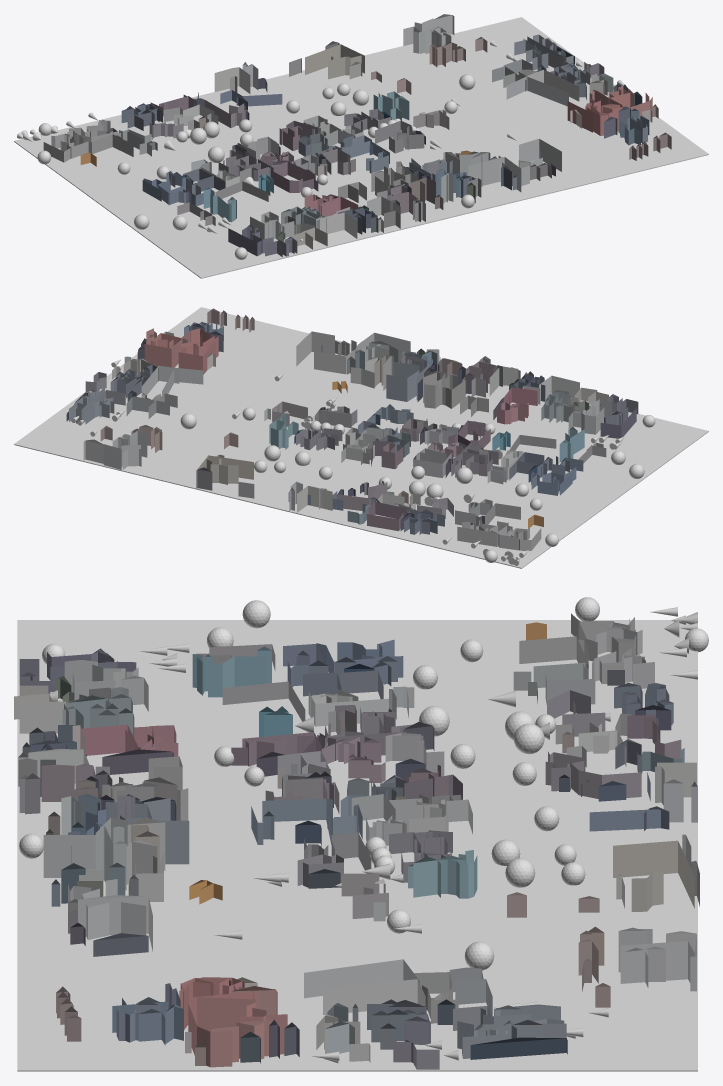
File: scene_35044c86-41a1-40a9-8fc9-4779edfe8ff5.glb
The picture shows the model from 3 angles, top to bottom: view 1: azimuth 30°, elevation 25°; view 2: azimuth 150°, elevation 25°; view 3: azimuth 270°, elevation 25°; orthographic projection. The views are drawn at different scales.
Visible parts, largest first — view 1: Ground_Base, BLD-141, BLD-326, BLD-297, BLD-013, BLD-354, BLD-001, BLD-140, BLD-029, BLD-061, BLD-213, BLD-014 (+6 smaller); view 2: Ground_Base, BLD-252, BLD-297, BLD-220, BLD-296, BLD-005, BLD-033, BLD-001, BLD-014, BLD-013, BLD-223, BLD-326 (+18 smaller); view 3: Ground_Base, BLD-013, BLD-237, BLD-227, BLD-140, BLD-141, BLD-296, BLD-005, BLD-252, BLD-220, BLD-326, BLD-043 (+43 smaller).
Boxes of the visible parts, bbox=[...] form: Ground_Base: bbox=[14, 17, 708, 278]; BLD-141: bbox=[506, 76, 568, 106]; BLD-326: bbox=[468, 157, 521, 192]; BLD-297: bbox=[519, 138, 561, 171]; BLD-013: bbox=[305, 44, 364, 74]; BLD-354: bbox=[316, 212, 357, 238]; BLD-001: bbox=[214, 67, 250, 93]; BLD-140: bbox=[527, 69, 579, 101]; BLD-029: bbox=[220, 90, 282, 106]; BLD-061: bbox=[92, 134, 133, 156]; BLD-213: bbox=[215, 181, 268, 201]; BLD-014: bbox=[328, 55, 361, 79]; Ground_Base: bbox=[14, 307, 708, 568]; BLD-252: bbox=[386, 363, 430, 401]; BLD-297: bbox=[296, 331, 334, 366]; BLD-220: bbox=[144, 331, 188, 367]; BLD-296: bbox=[314, 340, 357, 374]; BLD-005: bbox=[103, 434, 140, 469]; BLD-033: bbox=[457, 525, 497, 546]; BLD-001: bbox=[297, 486, 332, 512]; BLD-014: bbox=[206, 458, 238, 484]; BLD-013: bbox=[197, 455, 253, 479]; BLD-223: bbox=[178, 341, 215, 374]; BLD-326: bbox=[357, 332, 410, 362]; Ground_Base: bbox=[17, 620, 697, 1071]; BLD-013: bbox=[613, 840, 694, 908]; BLD-237: bbox=[192, 654, 266, 697]; BLD-227: bbox=[188, 1003, 273, 1067]; BLD-140: bbox=[323, 979, 425, 1014]; BLD-141: bbox=[304, 959, 419, 998]; BLD-296: bbox=[68, 879, 146, 939]; BLD-005: bbox=[620, 937, 696, 983]; BLD-252: bbox=[105, 798, 189, 864]; BLD-220: bbox=[197, 997, 287, 1054]; BLD-326: bbox=[43, 835, 95, 877]; BLD-043: bbox=[548, 751, 641, 798].
Size of the model in its own units: 245 by 16.9 by 158.
